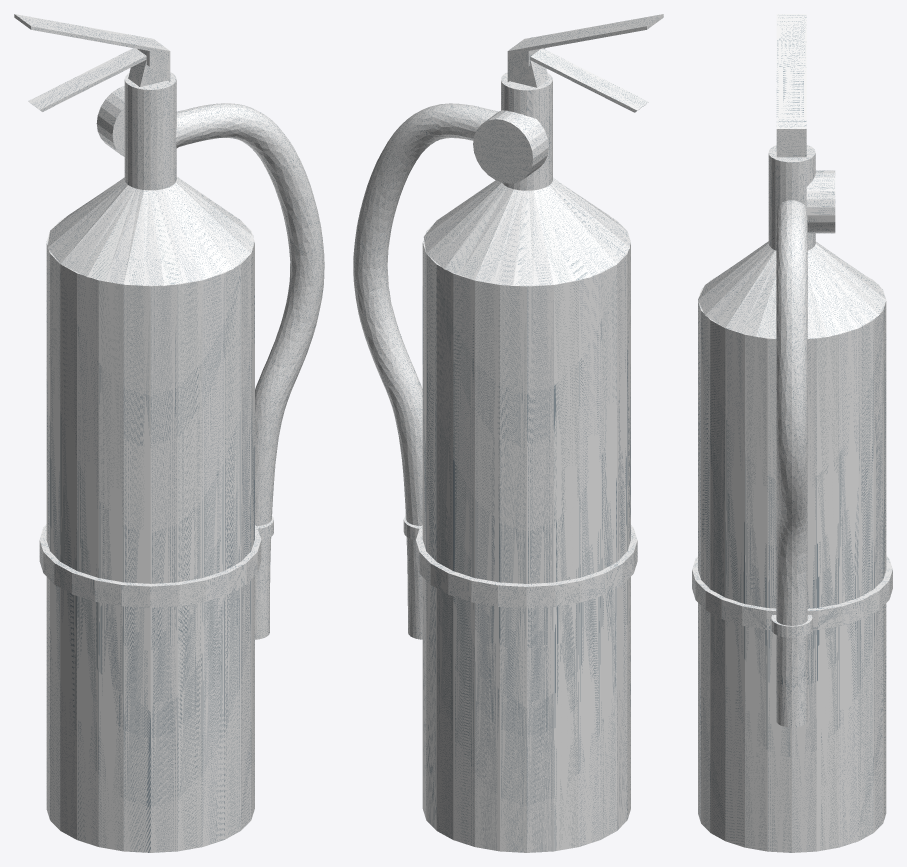
3 views of the same model, side by side, from view 1: azimuth 30°, elevation 25°; view 2: azimuth 150°, elevation 25°; view 3: azimuth 270°, elevation 25° (orthographic). The views are drawn at different scales.
Visible parts, largest first — view 1: A1000_-_Extinguisher__Fire (×6); view 2: A1000_-_Extinguisher__Fire (×6); view 3: A1000_-_Extinguisher__Fire (×7).
Part boxes in pixels (x1,y1,x2,y2): A1000_-_Extinguisher__Fire (×6): (14,14,324,852); A1000_-_Extinguisher__Fire (×6): (353,14,663,852); A1000_-_Extinguisher__Fire (×7): (692,14,892,852).
Size of the model in its own units: 9.97 by 6.39 by 26.07.
